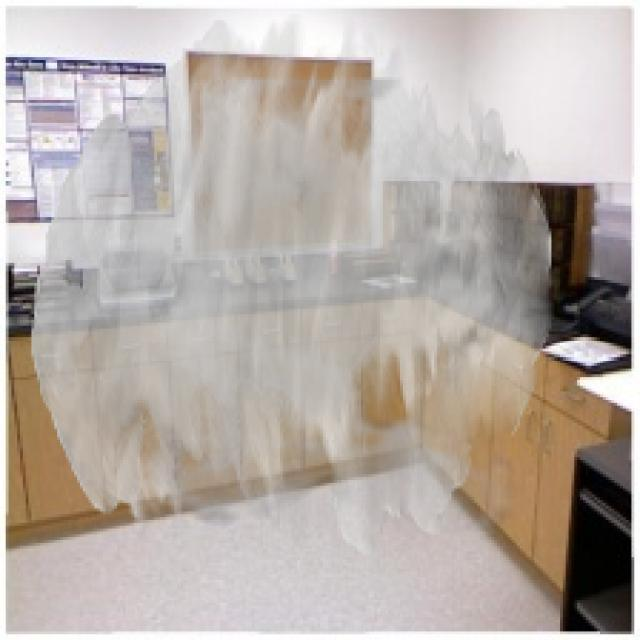Smoke: (32, 14, 554, 557)
